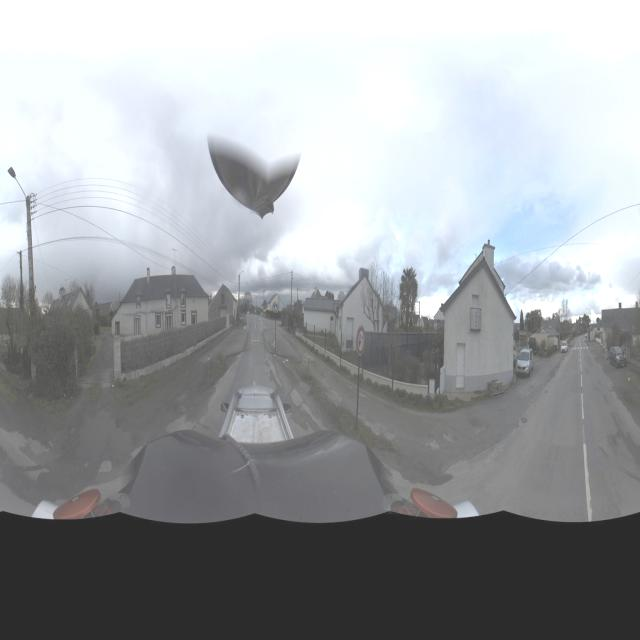car: (514, 347, 534, 377), (611, 346, 627, 367), (560, 339, 568, 353)
